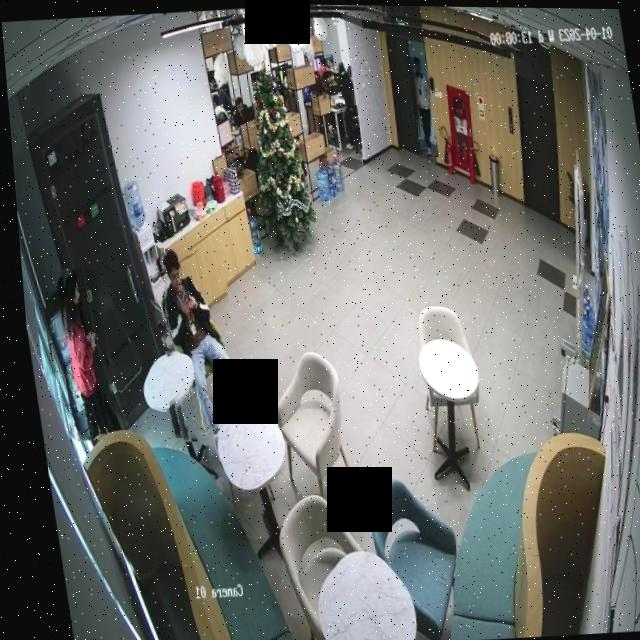person: (142, 244, 242, 442), (44, 267, 113, 441), (405, 54, 436, 156), (332, 58, 360, 149)
